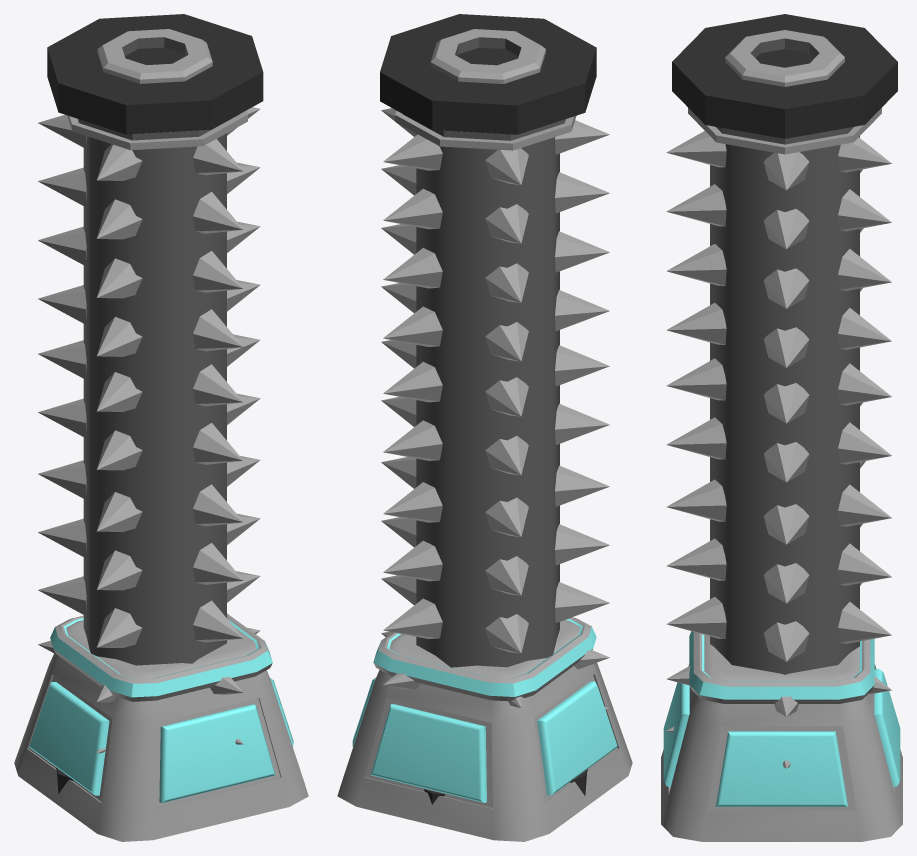
File: Colonn.fbx
3 renders of one model, left to right at view 1: azimuth 30°, elevation 25°; view 2: azimuth 150°, elevation 25°; view 3: azimuth 270°, elevation 25°, orthographic.
Parts seen in each view (by area): view 1: Trap, Turret_Down; view 2: Trap, Turret_Down; view 3: Trap, Turret_Down.
Part boxes in pixels (x1,y1,x2,y2): Trap: (38,14,263,793); Turret_Down: (14,613,308,841); Trap: (380,14,609,804); Turret_Down: (337,617,632,841); Trap: (666,14,897,768); Turret_Down: (661,631,902,841).
Size of the model in its own units: 225 by 756 by 225.
